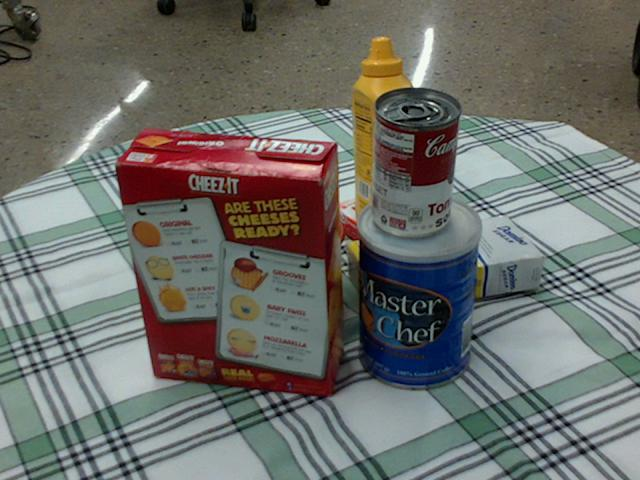cracker_box: (109, 130, 343, 394)
gelatin_box: (331, 183, 432, 254)
master_chef_can: (357, 190, 482, 389)
mug: (245, 208, 344, 324)
mustard_bottle: (351, 38, 418, 237)
potted_meat_can: (156, 227, 254, 323)
sugar_box: (347, 212, 544, 317)
tomato_soup_can: (370, 87, 458, 236)
tuna_fish_can: (162, 196, 252, 271)
